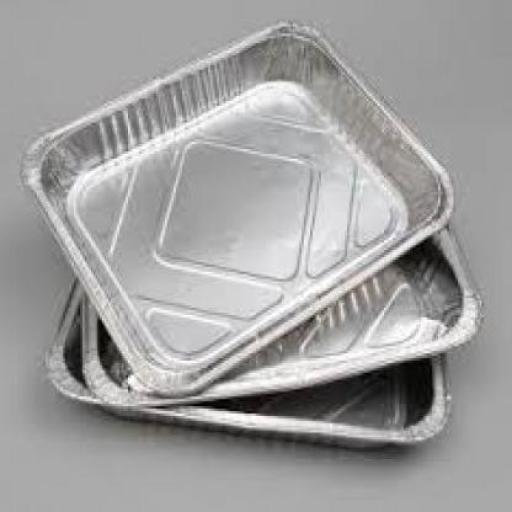metal: (17, 17, 454, 392), (78, 170, 482, 402), (43, 218, 449, 445)
